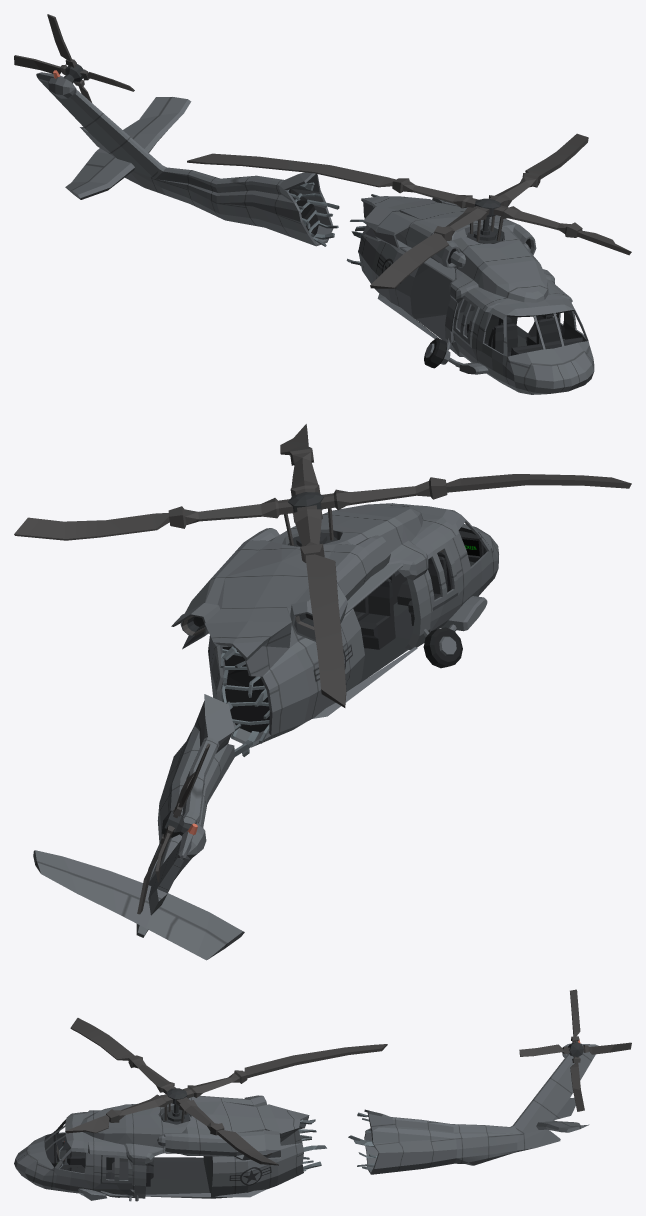
Rendered from TEMP_CHOPPER.fbx.
The picture shows the model from 3 angles, top to bottom: view 1: azimuth 30°, elevation 25°; view 2: azimuth 150°, elevation 25°; view 3: azimuth 270°, elevation 25°; orthographic projection. The views are drawn at different scales.
Parts seen in each view (by area): view 1: TEMP_CHOPPER; view 2: TEMP_CHOPPER; view 3: TEMP_CHOPPER.
Boxes of the visible parts, left/top/right/bottom form: TEMP_CHOPPER: left=14, top=14, right=631, bottom=394; TEMP_CHOPPER: left=14, top=424, right=631, bottom=960; TEMP_CHOPPER: left=14, top=989, right=631, bottom=1201.
Size of the model in its own units: 880 by 439 by 1794.
